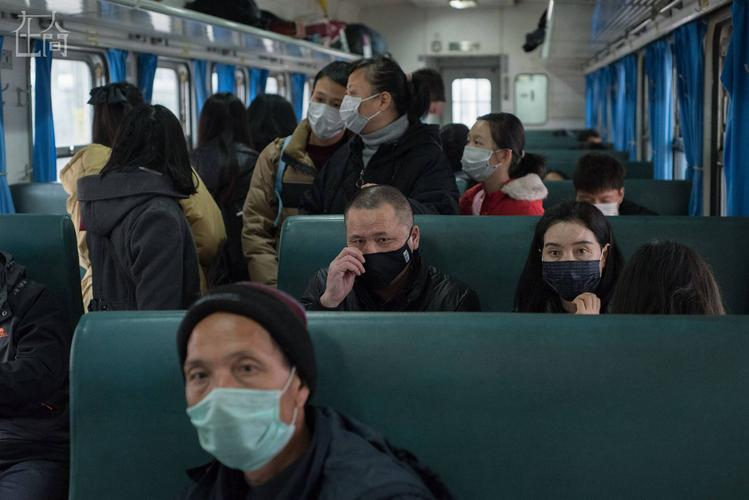mask: (184, 318, 307, 472), (541, 219, 610, 300), (341, 68, 384, 131)
